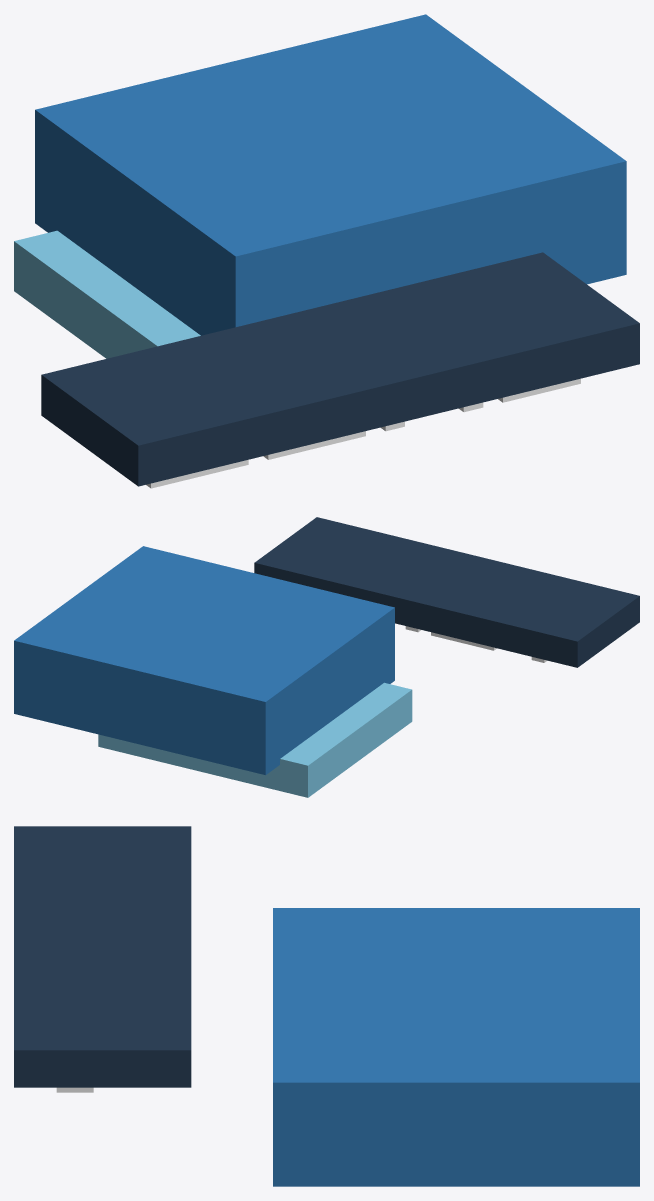
Rendered from MotionReady_Temperature_Sensor.obj.
The picture shows the model from 3 angles, top to bottom: view 1: azimuth 30°, elevation 25°; view 2: azimuth 150°, elevation 25°; view 3: azimuth 270°, elevation 25°; orthographic projection. The views are drawn at different scales.
Visible parts, largest first — view 1: Temperature_sensor, Label_TEMP_plate, TMP36_sensor_face, Label_TEMP_letters; view 2: Temperature_sensor, Label_TEMP_plate, TMP36_sensor_face; view 3: Temperature_sensor, Label_TEMP_plate.
Boxes of the visible parts, left/top/right/bottom form: Temperature_sensor: left=35, top=14, right=626, bottom=335; Label_TEMP_plate: left=41, top=252, right=639, bottom=486; TMP36_sensor_face: left=14, top=230, right=200, bottom=358; Label_TEMP_letters: left=146, top=378, right=580, bottom=488; Temperature_sensor: left=14, top=546, right=394, bottom=775; Label_TEMP_plate: left=254, top=517, right=639, bottom=667; TMP36_sensor_face: left=98, top=682, right=412, bottom=797; Temperature_sensor: left=273, top=908, right=639, bottom=1186; Label_TEMP_plate: left=14, top=826, right=191, bottom=1087.
Size of the model in its own units: 326 by 84.38 by 307.
